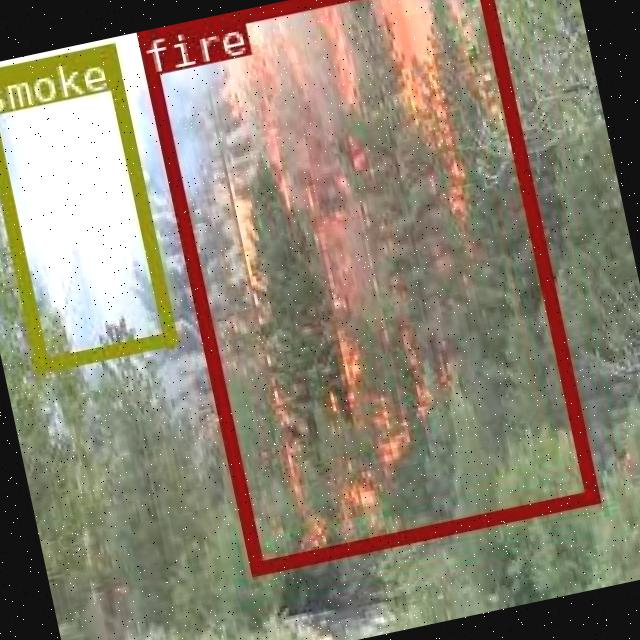fire: (135, 0, 594, 571)
smoke: (0, 41, 175, 371)
